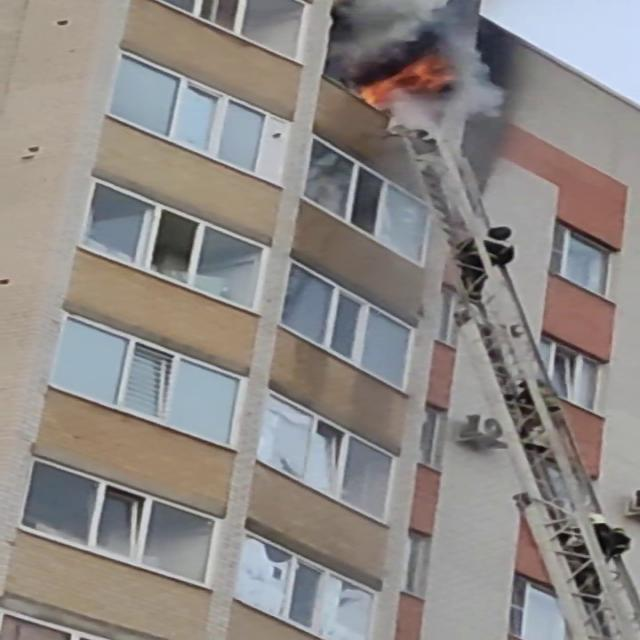Smoke: (330, 0, 513, 120)
